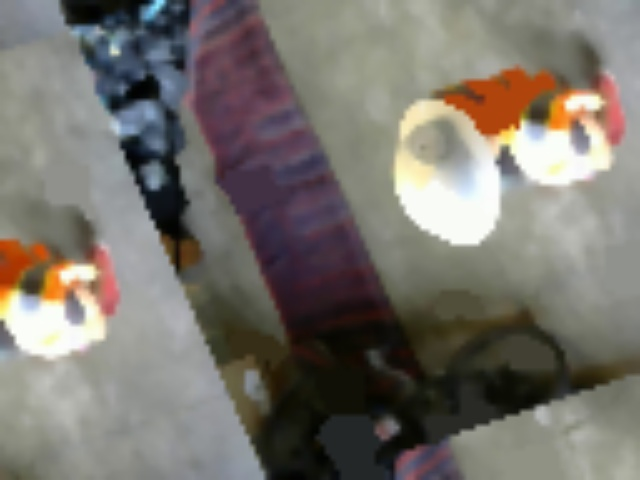three: (400, 120, 454, 170)
